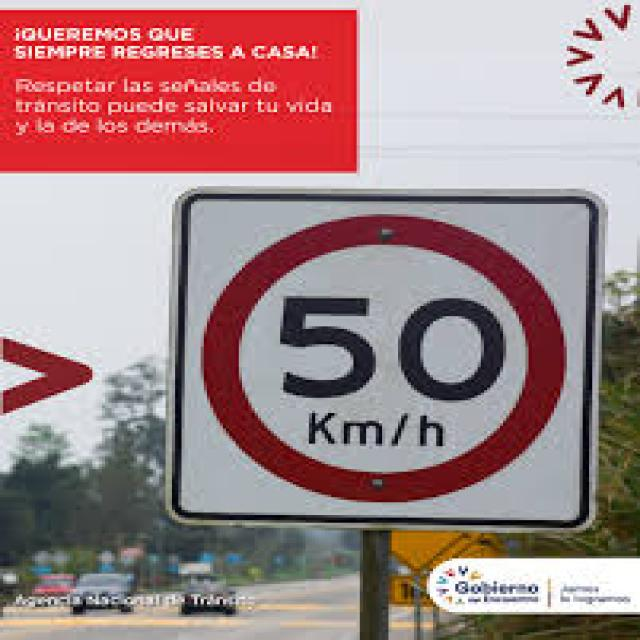Speed limit 50: (198, 209, 570, 510)
